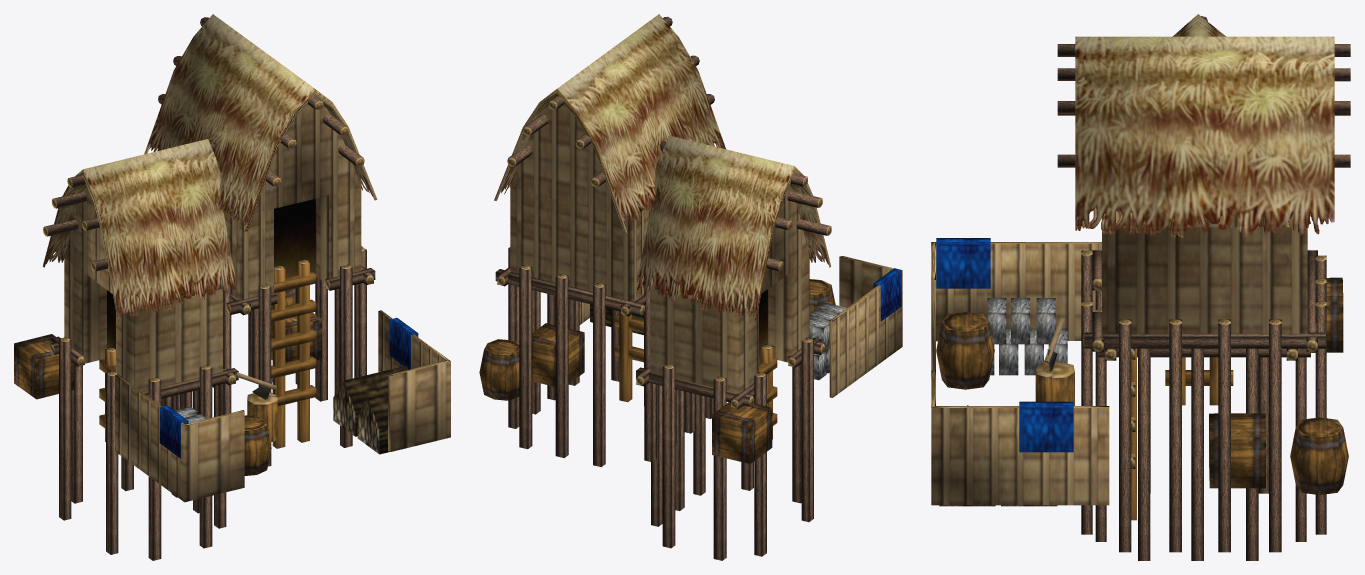
File: storehouse.dae
The picture shows the model from 3 angles, left to right: view 1: azimuth 30°, elevation 25°; view 2: azimuth 150°, elevation 25°; view 3: azimuth 270°, elevation 25°; orthographic projection. The views are drawn at different scales.
Parts seen in each view (by area): view 1: storehouse; view 2: storehouse; view 3: storehouse.
Part boxes in pixels (<box>): storehouse: <box>14,14,450,560</box>; storehouse: <box>479,14,902,560</box>; storehouse: <box>931,14,1350,560</box>.
Bounding box in the file's own units: 12.57 × 12.86 × 19.07.
